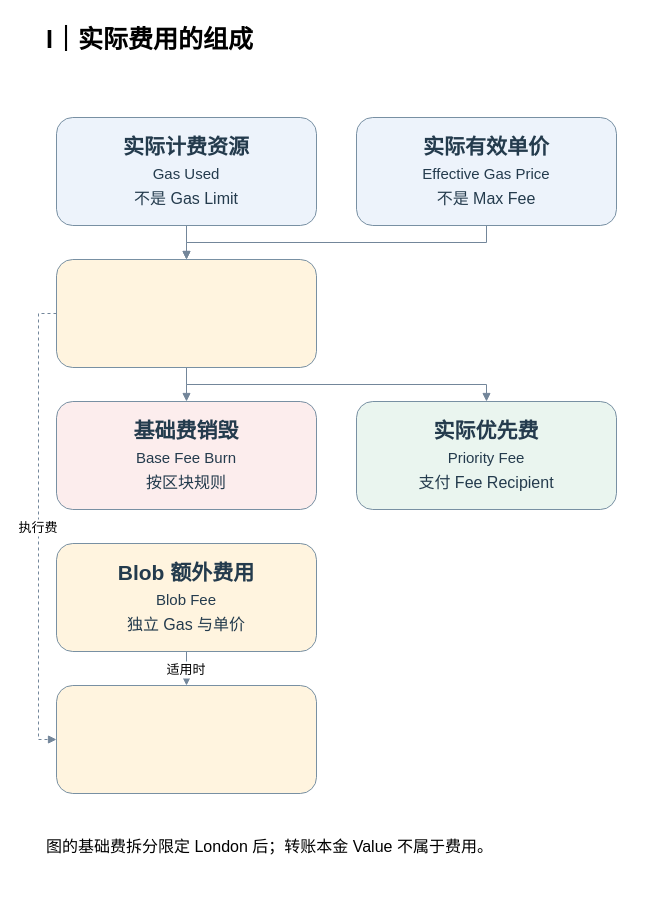
The diagram is 645 pixels wide and 917 high, and some of its shapes have lost their labels. The shapes that lost their labels are listed below. From the top down, each one's box as (x1, y1, x2, y2) in pixels, then its label:
(56, 258, 316, 368): 执行费用 Execution Fee Used × Effective Price
(56, 684, 316, 794): 实际总费用 Total Fee 执行费 + 适用 Blob 费
